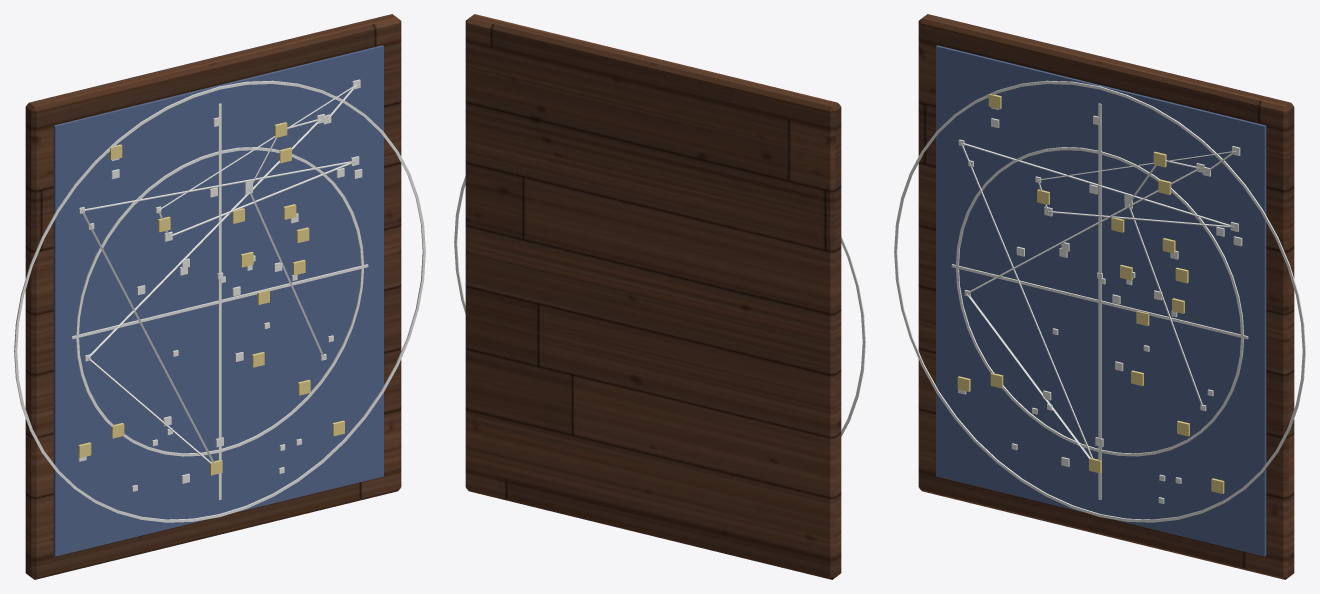
File: star_panel_s.glb
3 views of the same model, side by side, from view 1: azimuth 30°, elevation 25°; view 2: azimuth 150°, elevation 25°; view 3: azimuth 330°, elevation 25° (orthographic).
Visible parts, largest first — view 1: star_panel_s_chart, star_panel_s_dkwood, star_panel_s_chalk, star_panel_s_gold; view 2: star_panel_s_dkwood, star_panel_s_chalk; view 3: star_panel_s_chart, star_panel_s_dkwood, star_panel_s_chalk, star_panel_s_gold.
Boxes of the visible parts, left/top/right/bottom form: star_panel_s_chart: left=53, top=45, right=383, bottom=556; star_panel_s_dkwood: left=25, top=14, right=401, bottom=579; star_panel_s_chalk: left=14, top=79, right=425, bottom=522; star_panel_s_gold: left=78, top=122, right=344, bottom=475; star_panel_s_dkwood: left=465, top=14, right=841, bottom=579; star_panel_s_chalk: left=454, top=176, right=865, bottom=436; star_panel_s_chart: left=936, top=45, right=1266, bottom=556; star_panel_s_dkwood: left=918, top=14, right=1294, bottom=579; star_panel_s_chalk: left=894, top=80, right=1305, bottom=522; star_panel_s_gold: left=957, top=94, right=1224, bottom=493.
Bounding box in the file's own units: 1 × 1.1 × 0.052.
4 materials, 1 textured.
